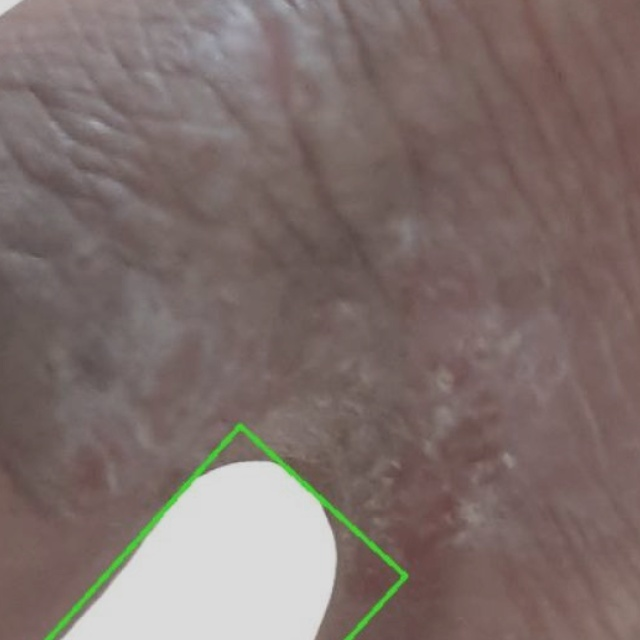Eczema: (48, 426, 406, 639)
